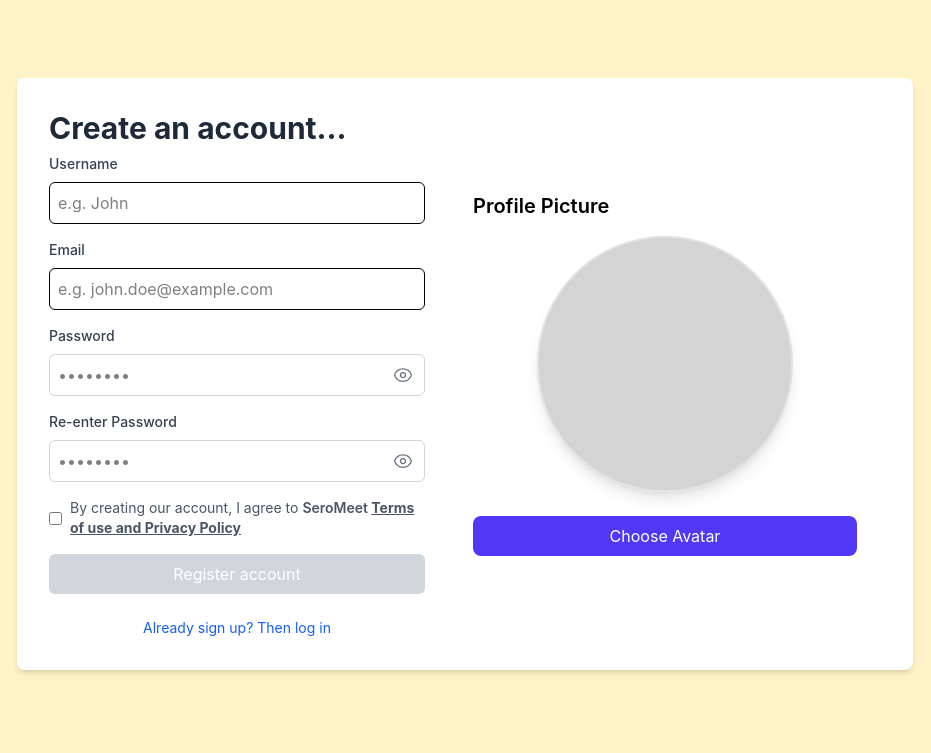
Test: Registration Page › shows error for missing username
Note: Fill in only the email and password fields
In the field named "email": (237, 289) [49,268,425,310], type "newuser@example.com"
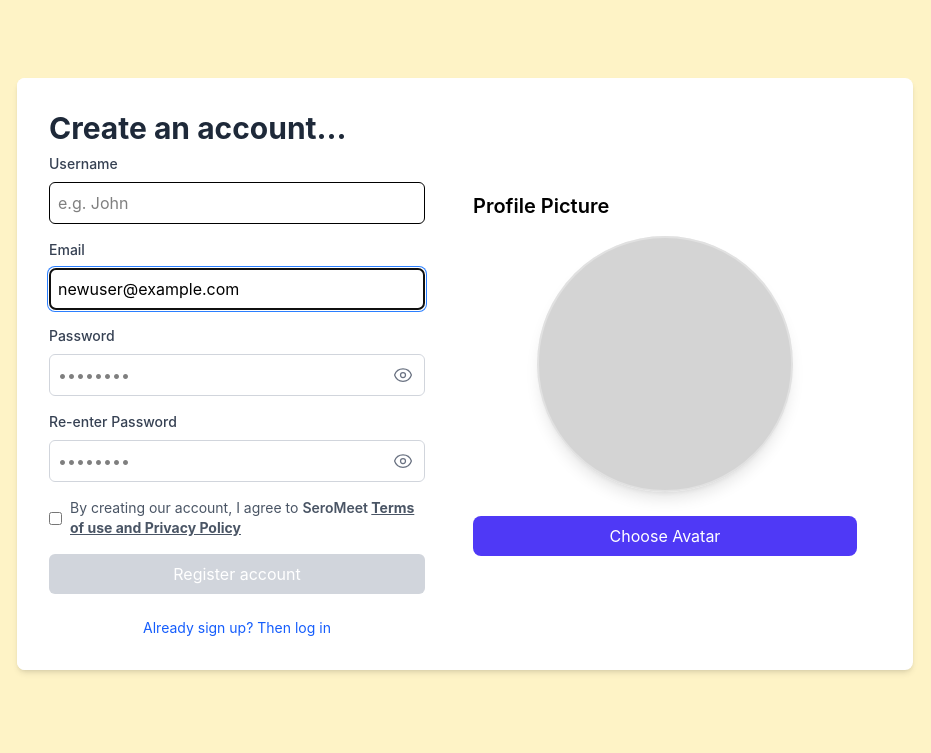
In the password field named "password": (237, 375) [49,354,425,396], type "Password123!"
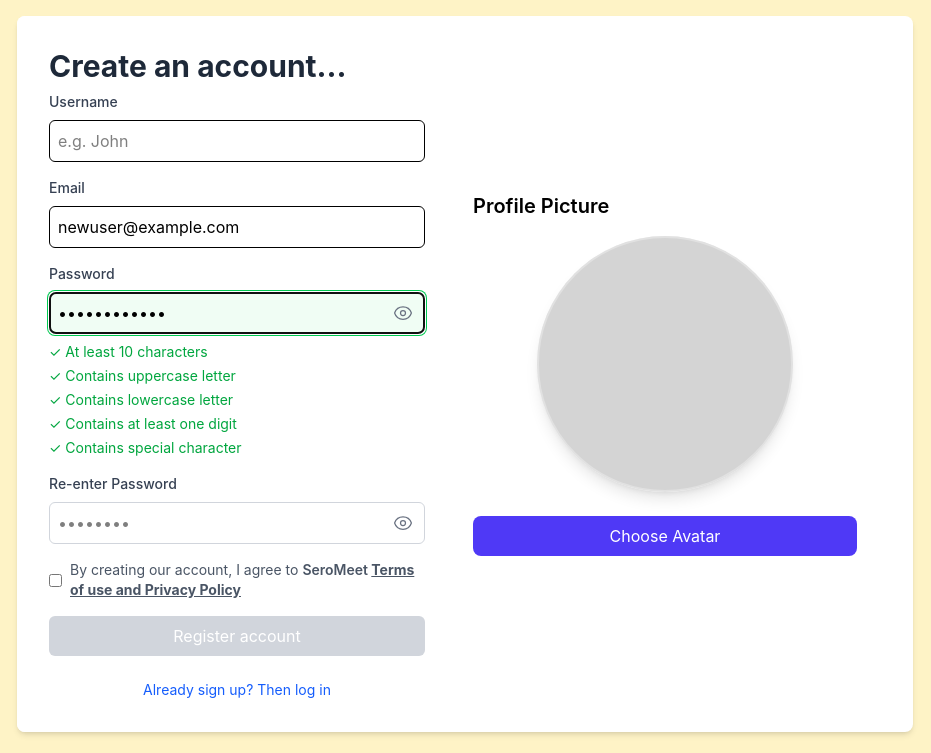
In the password field named "confirmPassword": (237, 523) [49,502,425,544], type "Password123!"
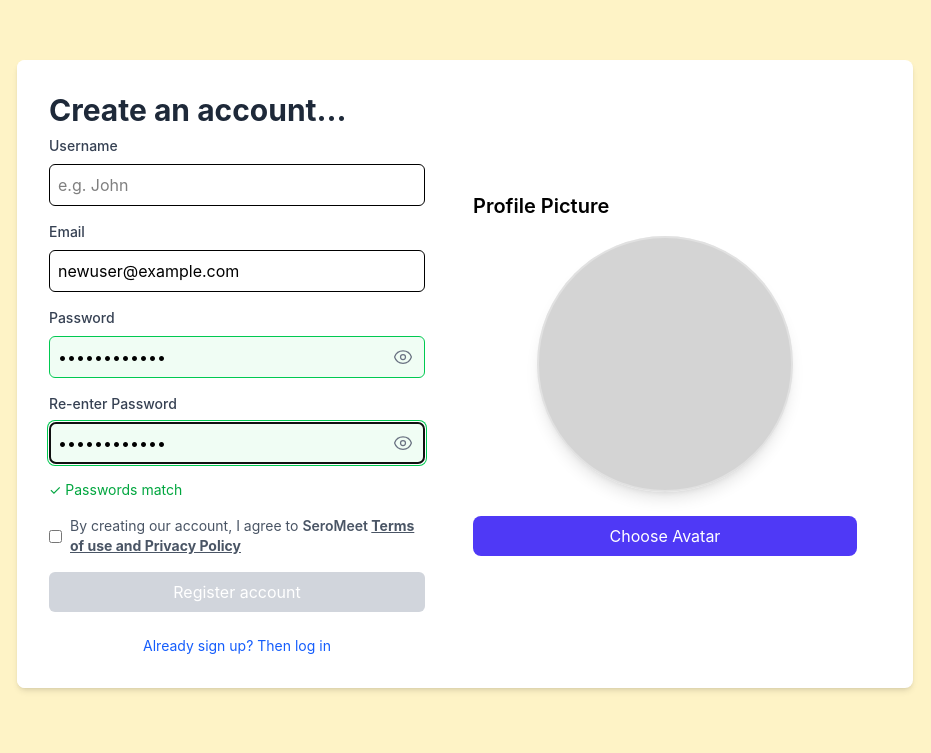
Check the checkbox: (56, 537) [49,530,62,543]
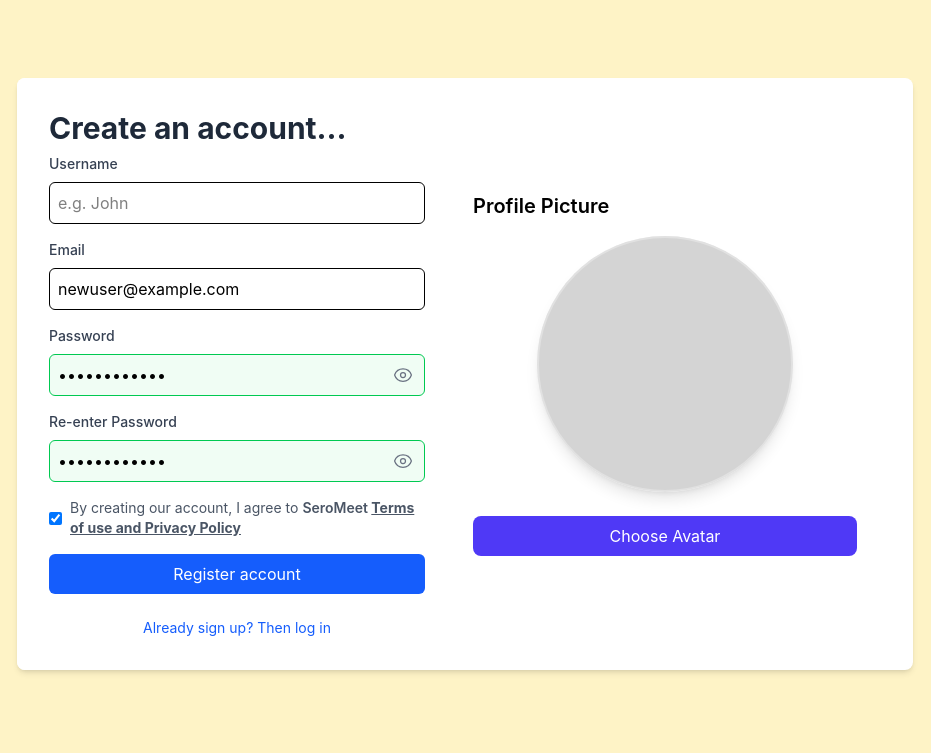
Note: Submit the form
Click the submit button: (237, 574) [49,554,425,594]
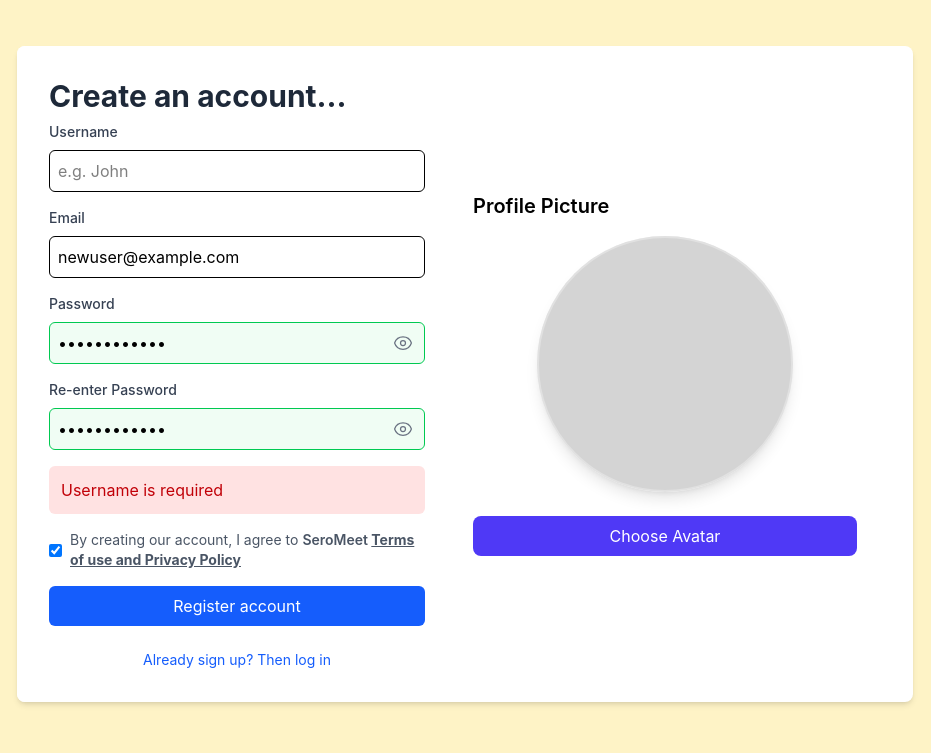
Check: the text "Username is required" is shown, box [49,466,425,514]
